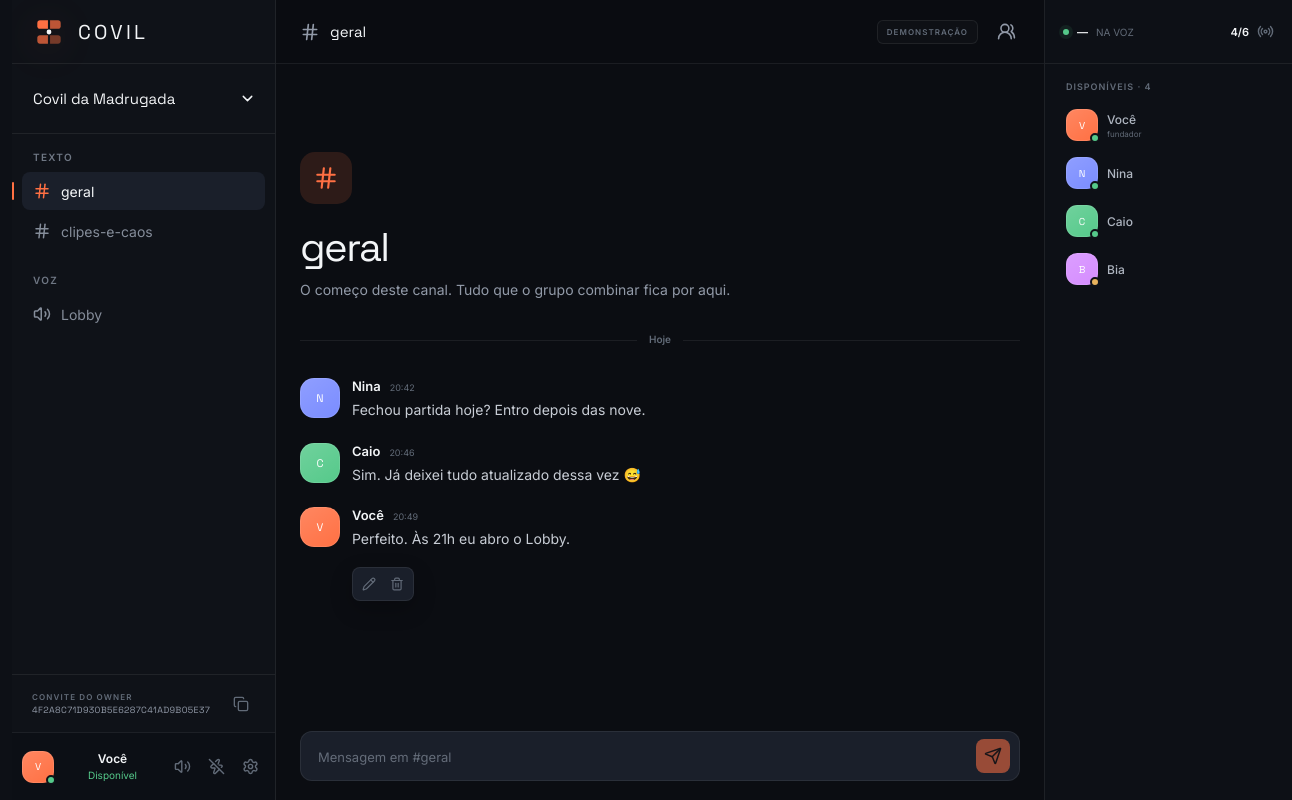
it: App em modo de demonstração › ativa a ultra economia e mantém a preferência
The image size is (1292, 800).
Click the button named "Ativar ultra economia de dados" at {"x": 216, "y": 766}, box [201,752,231,782]
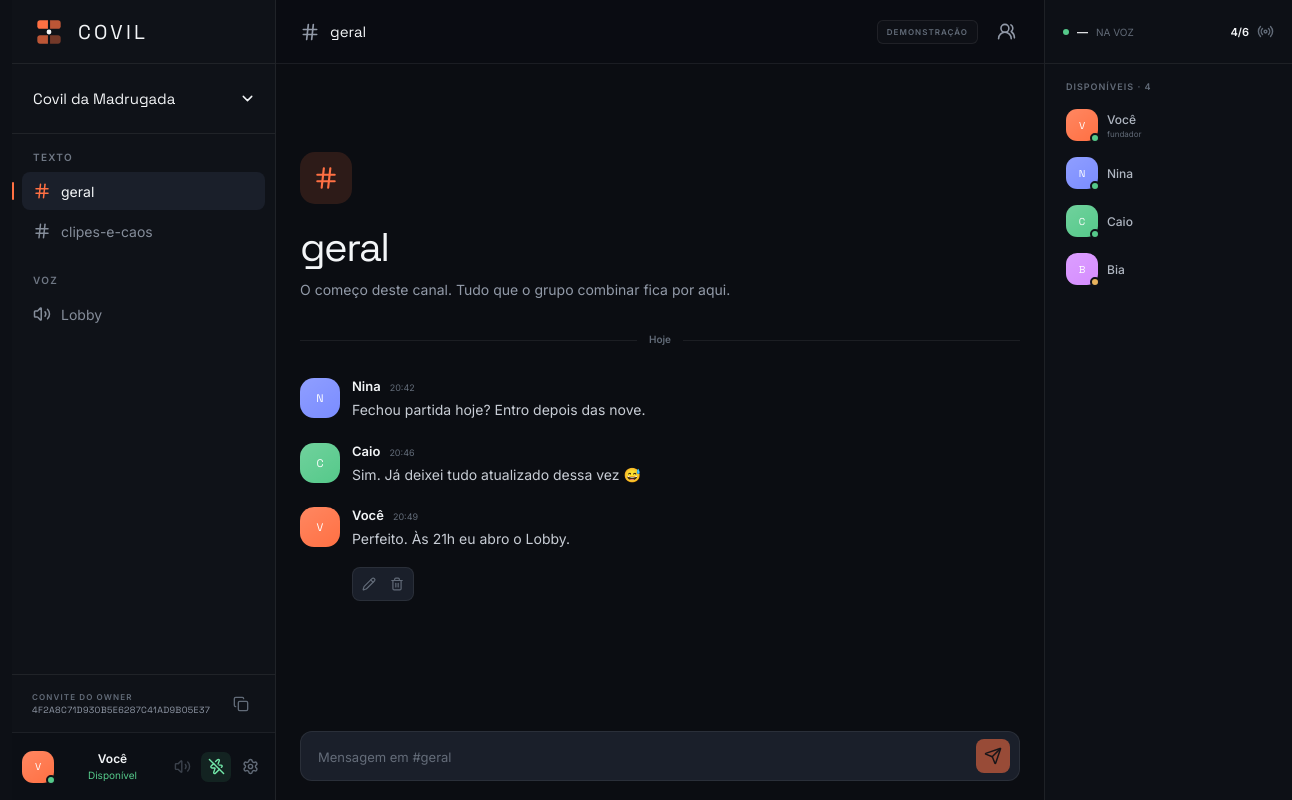
Expected: the button named "Sons pausados pela ultra economia" is disabled, [167,752,197,782]
